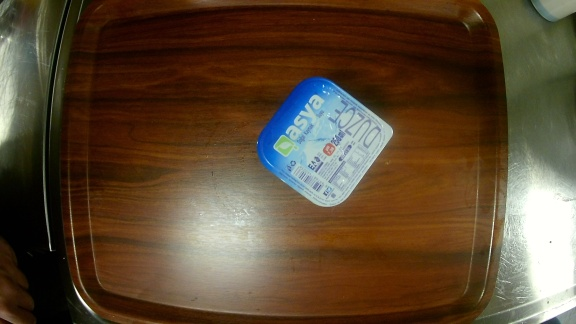kucuksu: (251, 76, 396, 212)
